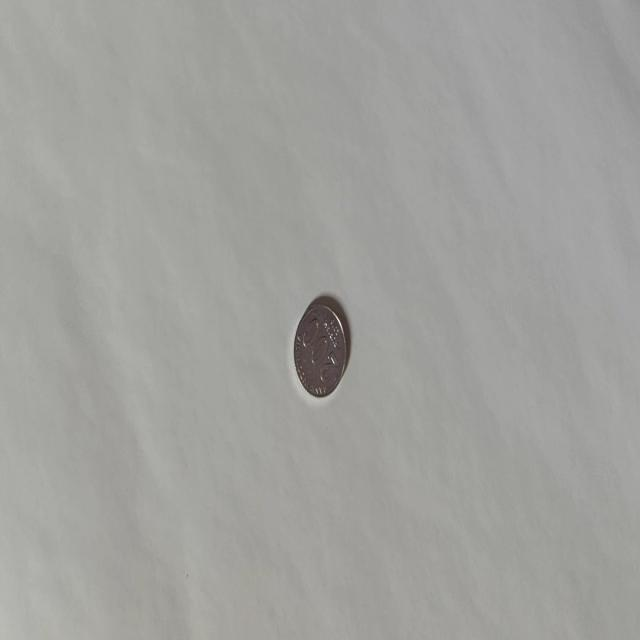dua ratus rupiah: (292, 298, 348, 398)
